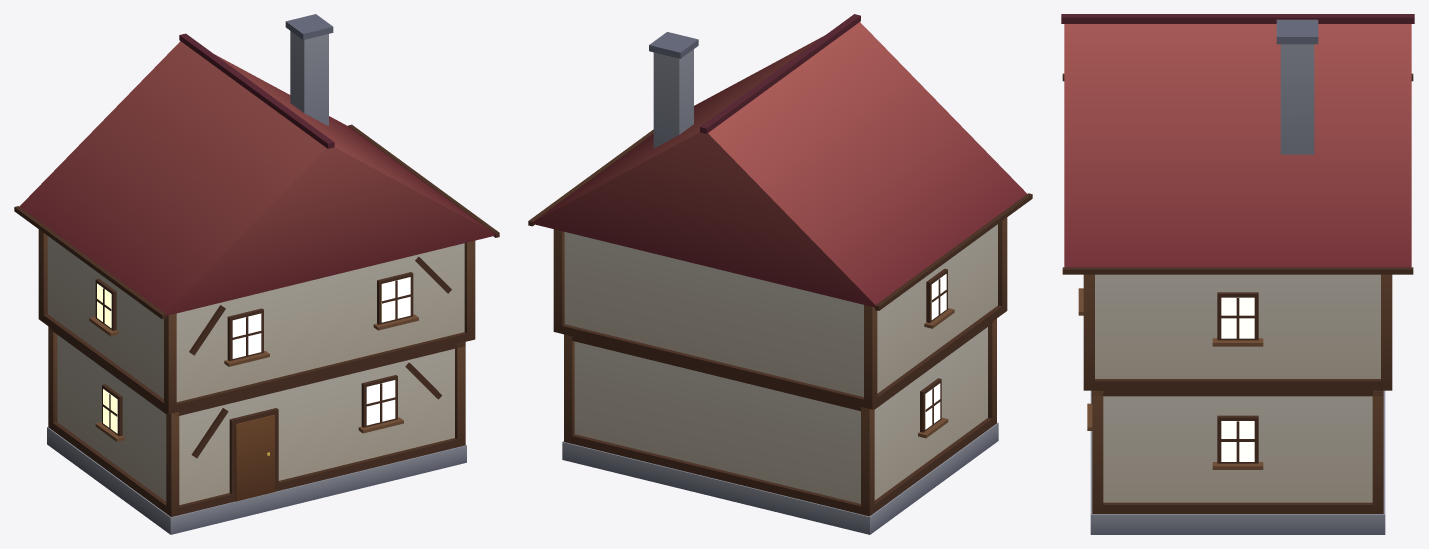
Rendered from house_inn_lit.glb.
3 views of the same model, side by side, from view 1: azimuth 30°, elevation 25°; view 2: azimuth 150°, elevation 25°; view 3: azimuth 270°, elevation 25° (orthographic). The views are drawn at different scales.
Parts seen in each view (by area): view 1: house_inn_lit; view 2: house_inn_lit; view 3: house_inn_lit.
Boxes of the visible parts, <box> form: house_inn_lit: <box>14,14,499,534</box>; house_inn_lit: <box>528,14,1032,534</box>; house_inn_lit: <box>1061,14,1414,534</box>.
Bounding box in the file's own units: 8.26 × 9.17 × 6.3.
